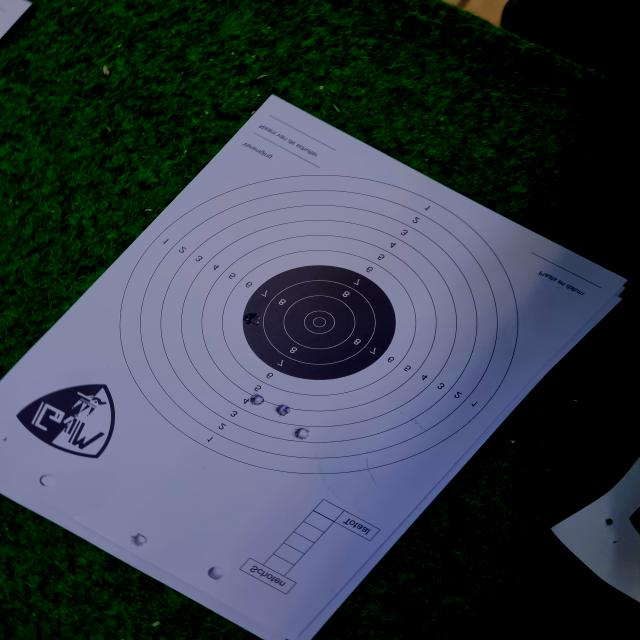0: (131, 533, 148, 546)
3: (294, 427, 310, 440)
5: (275, 404, 291, 416), (250, 394, 264, 406)
7: (244, 313, 260, 325)
Target: (120, 175, 518, 474)
